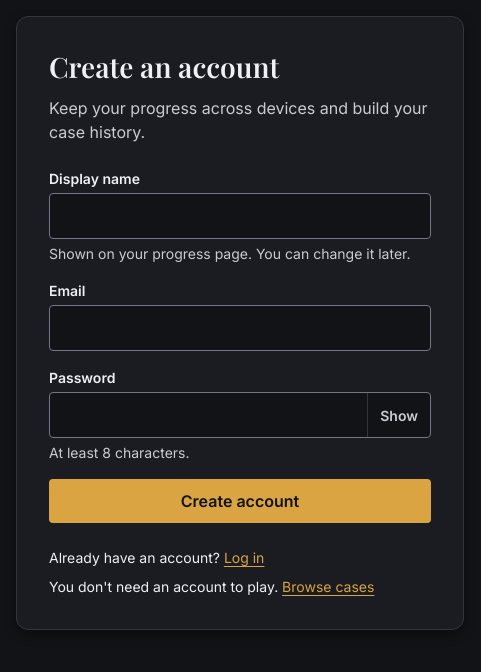
Test: register view › checks password length on blur
Type "short" into the password field labelled "Password".
click(209, 415); type("short")  # box left=50, top=393, right=367, bottom=437
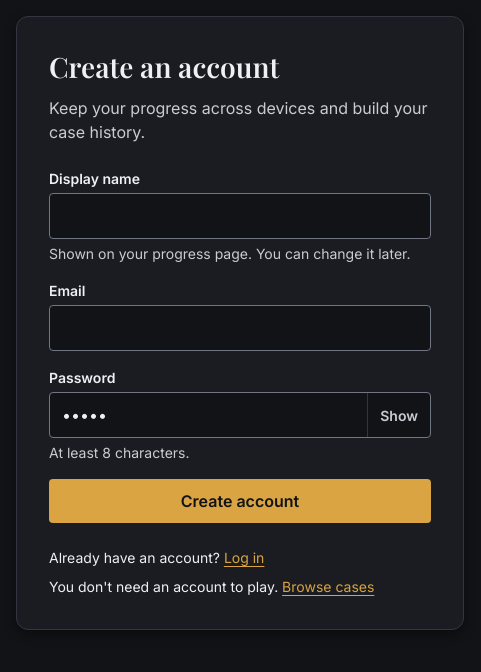
Leave the password field labelled "Password", box left=50, top=393, right=367, bottom=437
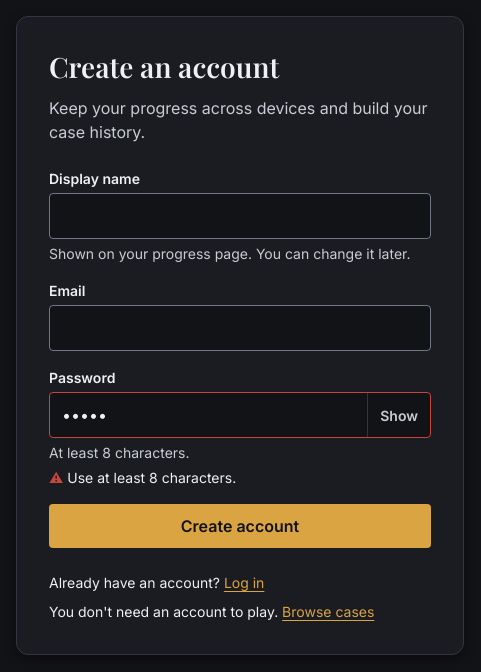
expect the text "Use at least 8 characters." is shown: met, box left=67, top=469, right=236, bottom=486
